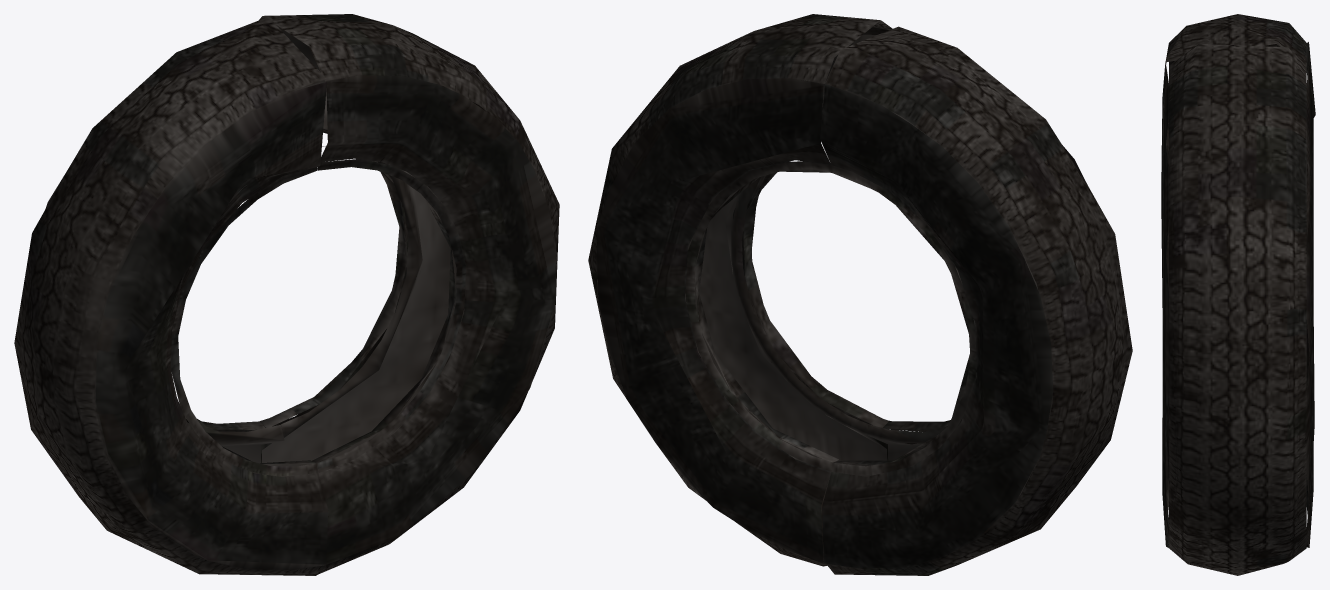
The model's file is old_tyre_1k.gltf.
3 views of the same model, side by side, from view 1: azimuth 30°, elevation 25°; view 2: azimuth 150°, elevation 25°; view 3: azimuth 270°, elevation 25° (orthographic). The views are drawn at different scales.
Parts seen in each view (by area): view 1: old_tyre_LOD0; view 2: old_tyre_LOD0; view 3: old_tyre_LOD0.
Part boxes in pixels (left/top/right/bottom): old_tyre_LOD0: left=14, top=14, right=559, bottom=575; old_tyre_LOD0: left=588, top=14, right=1132, bottom=575; old_tyre_LOD0: left=1161, top=14, right=1315, bottom=575.
Size of what is drawn, in the model's own units: 0.6041 by 0.6042 by 0.167.
Materials: 1 (1 with a texture image).
